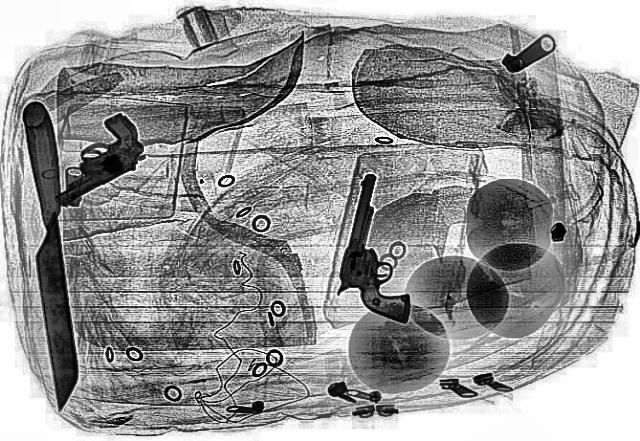Gun: (330, 171, 442, 321), (12, 109, 176, 207)
Knife: (18, 100, 82, 410)
